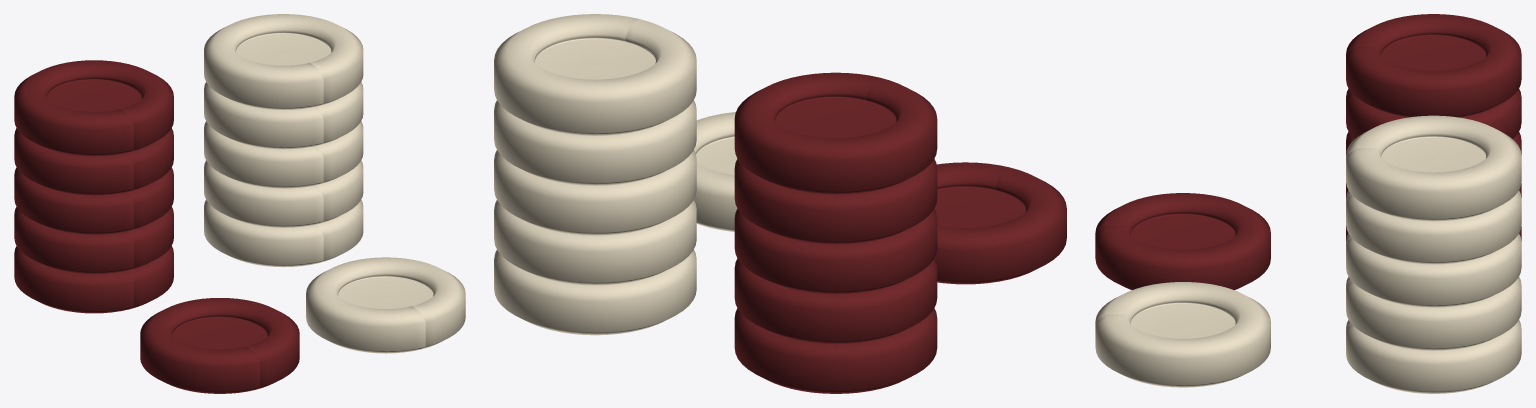
Rendered from checkers_maroonIvory.glb.
3 views of the same model, side by side, from view 1: azimuth 30°, elevation 25°; view 2: azimuth 150°, elevation 25°; view 3: azimuth 270°, elevation 25° (orthographic). The views are drawn at different scales.
Visible parts, largest first — view 1: checker_light_4, checker_face_dark, checker_dark_4, checker_face_light, checker_light_0, checker_light_2, checker_dark_2, checker_dark_1, checker_light_3, checker_dark_0, checker_dark_3, checker_light_1; view 2: checker_light_4, checker_dark_4, checker_face_light, checker_light_3, checker_light_2, checker_light_0, checker_light_1, checker_dark_1, checker_dark_2, checker_dark_0, checker_dark_3, checker_face_dark; view 3: checker_dark_4, checker_face_dark, checker_light_4, checker_face_light, checker_dark_1, checker_dark_2, checker_dark_0, checker_dark_3, checker_light_3.
Boxes of the visible parts, box(x1,y1,x2,y2) form: checker_light_4: box(14, 60, 173, 156); checker_face_dark: box(306, 257, 465, 353); checker_dark_4: box(204, 14, 363, 109); checker_face_light: box(140, 298, 299, 393); checker_light_0: box(14, 246, 173, 313); checker_light_2: box(14, 167, 173, 234); checker_dark_2: box(204, 121, 363, 188); checker_dark_1: box(204, 160, 363, 227); checker_light_3: box(14, 128, 173, 195); checker_dark_0: box(204, 200, 363, 267); checker_dark_3: box(204, 82, 363, 149); checker_light_1: box(14, 207, 173, 274); checker_light_4: box(734, 72, 937, 194); checker_dark_4: box(494, 14, 696, 135); checker_face_light: box(934, 162, 1066, 284); checker_light_3: box(734, 159, 937, 244); checker_light_2: box(734, 208, 937, 294); checker_light_0: box(734, 308, 937, 393); checker_light_1: box(734, 258, 937, 344); checker_dark_1: box(494, 200, 696, 285); checker_dark_2: box(494, 150, 696, 235); checker_dark_0: box(494, 249, 696, 335); checker_dark_3: box(494, 100, 696, 185); checker_face_dark: box(694, 112, 737, 231); checker_dark_4: box(1346, 115, 1521, 221); checker_face_dark: box(1095, 282, 1270, 387); checker_light_4: box(1346, 14, 1521, 117); checker_face_light: box(1095, 193, 1270, 290); checker_dark_1: box(1346, 276, 1521, 350); checker_dark_2: box(1346, 233, 1521, 307); checker_dark_0: box(1346, 320, 1521, 393); checker_dark_3: box(1346, 190, 1521, 264); checker_light_3: box(1346, 88, 1521, 138).
Bounding box in the file's own units: 0.083 × 0.047 × 0.085.
